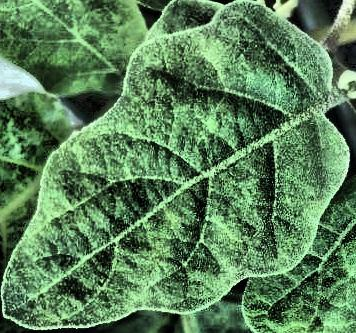HEALTHY: (1, 0, 356, 333)
